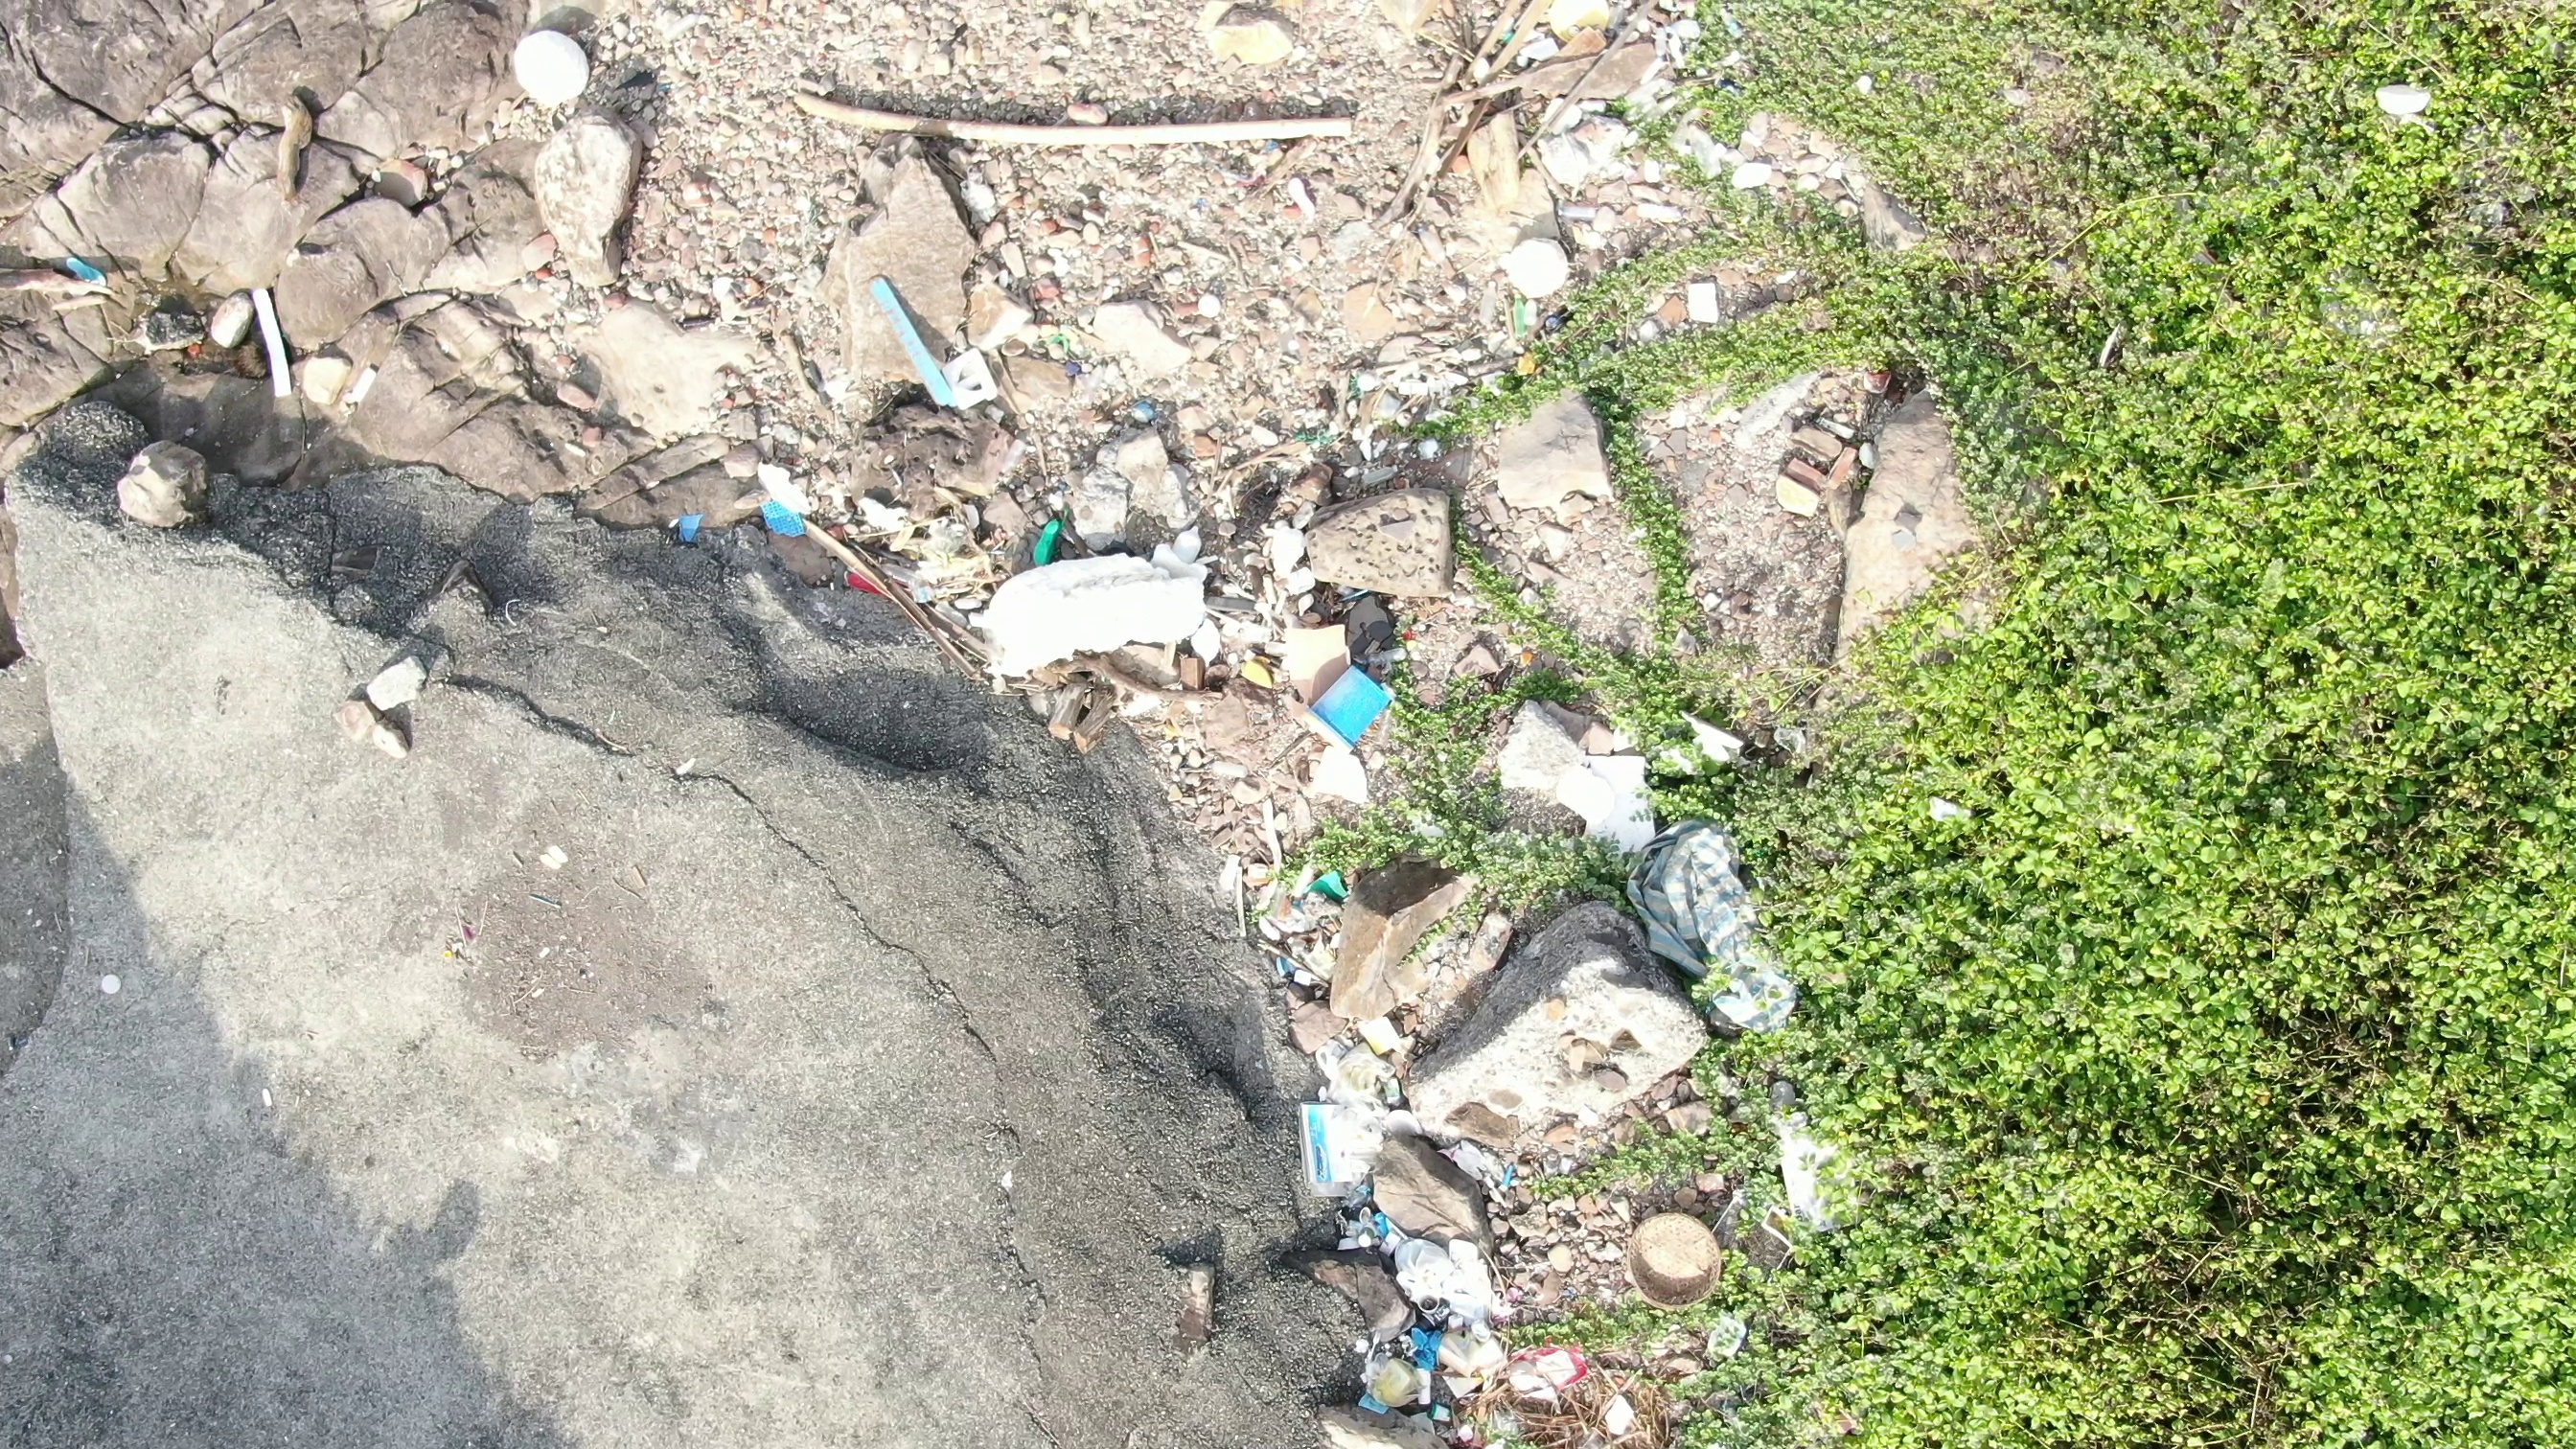garbage: (1628, 810, 1813, 1051), (1332, 1201, 1470, 1449), (865, 264, 1005, 419), (1286, 1088, 1394, 1212), (1499, 1330, 1599, 1410), (1313, 658, 1396, 743), (837, 554, 908, 628), (755, 487, 819, 550), (1293, 853, 1361, 911), (1030, 510, 1076, 584), (672, 504, 718, 554)
